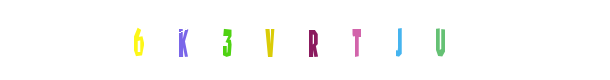3: (187, 0, 267, 80)
6: (142, 0, 222, 80)
J: (359, 0, 439, 80)
K: (162, 0, 242, 80)
R: (272, 0, 352, 80)
T: (308, 0, 388, 80)
U: (368, 0, 448, 80)
V: (265, 0, 345, 80)
